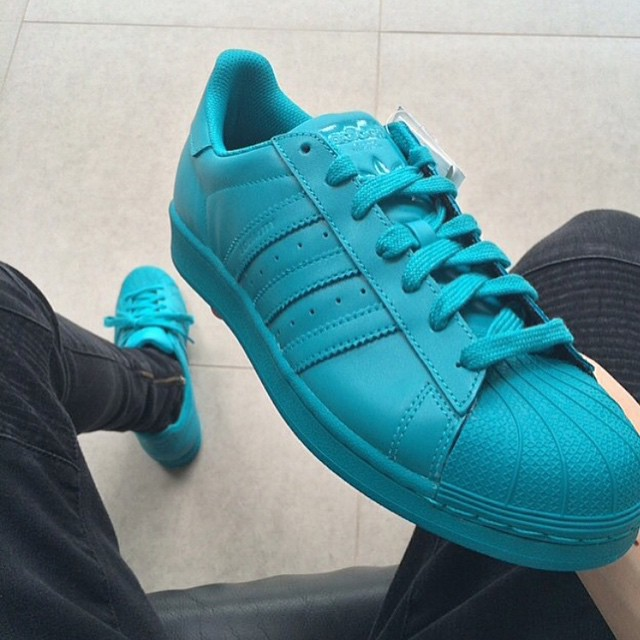sneaker: (83, 252, 228, 491)
